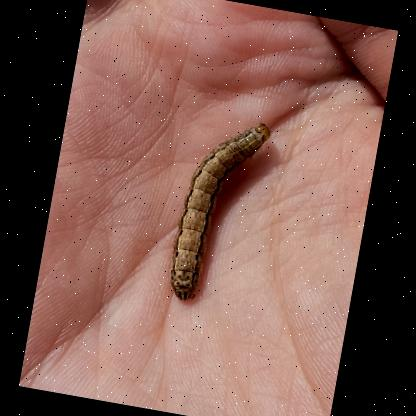Fall Armyworm Larvae: (158, 107, 274, 314)
